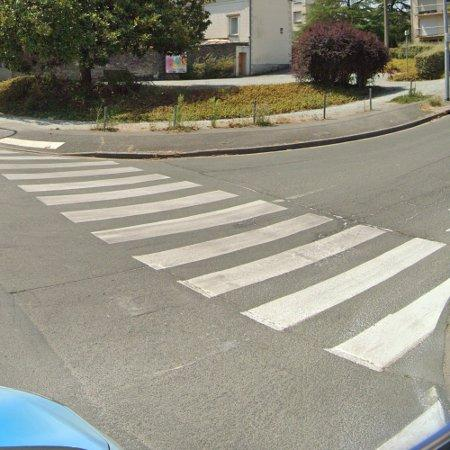crosswalks: (0, 153, 450, 370)
